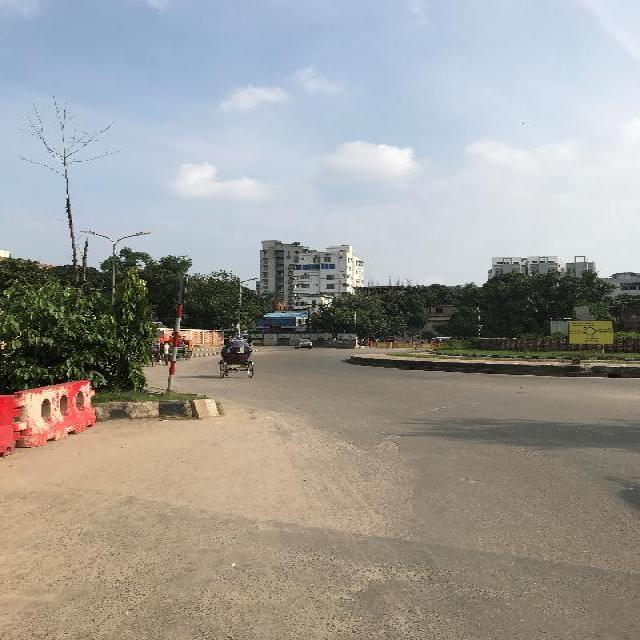vehicle: (219, 340, 255, 381), (170, 337, 187, 362), (152, 339, 162, 365), (294, 339, 313, 350), (365, 338, 370, 346)
